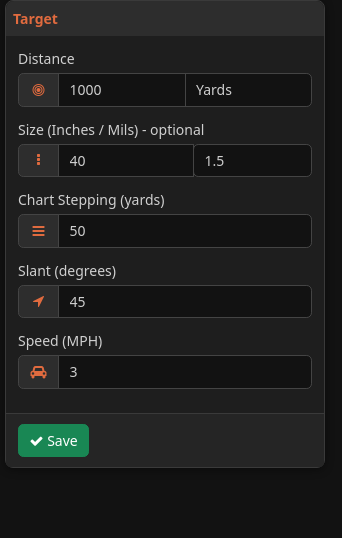
displays validation error for distance when value exceeds max
The width and height of the screenshot is (342, 538).
Clear the number field named "distance" at (122, 90), box [58, 73, 186, 106]
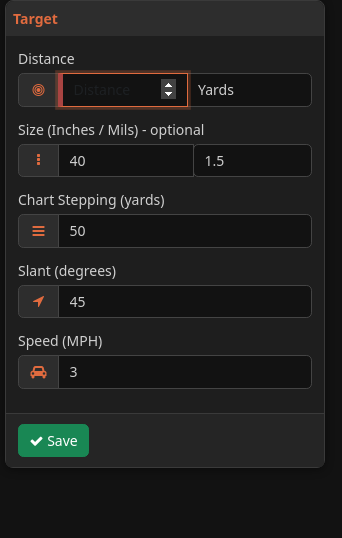
Type "6000" into the number field named "distance" at (123, 90), box [58, 73, 188, 106]
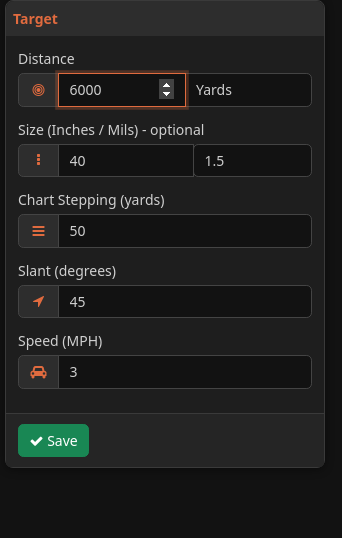
Press Tab
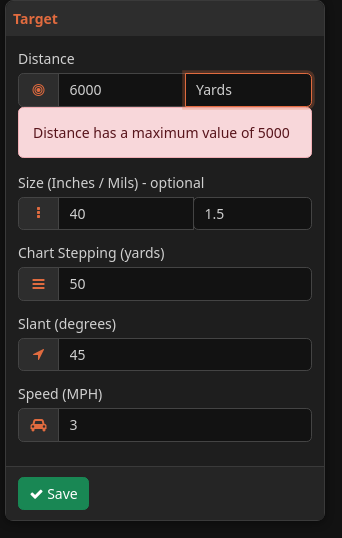
Now the text "Distance has a maximum value of 5000" is shown, box [18, 106, 312, 158]
